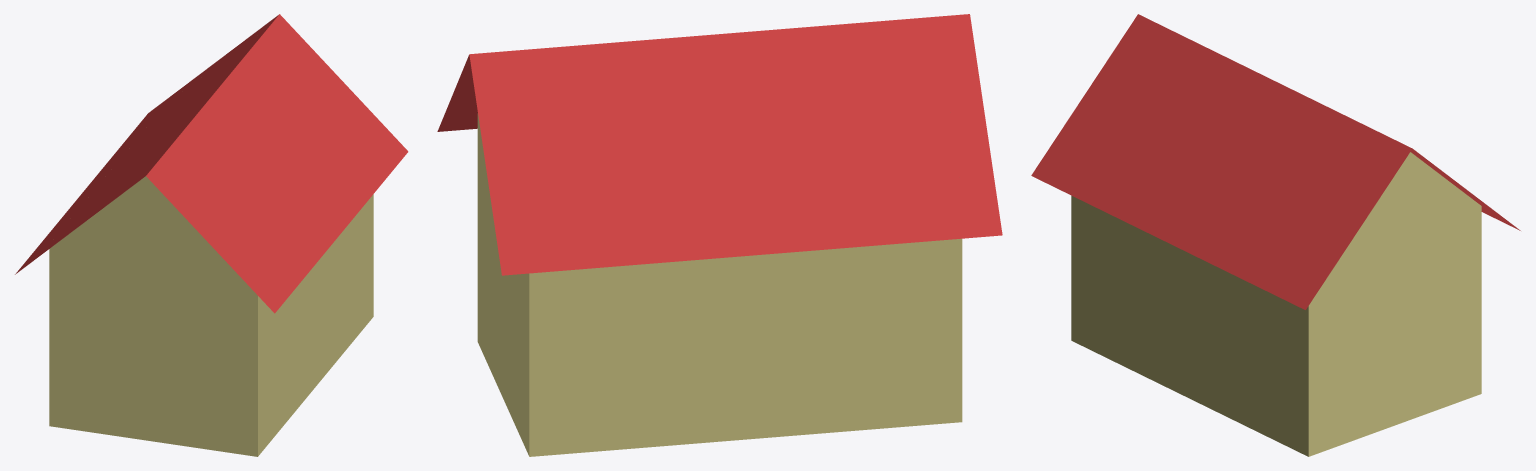
3 views of the same model, side by side, from view 1: azimuth 30°, elevation 25°; view 2: azimuth 150°, elevation 25°; view 3: azimuth 270°, elevation 25° (orthographic). The views are drawn at different scales.
Bounding box in the file's own units: 17.72 × 17.23 × 11.1.
